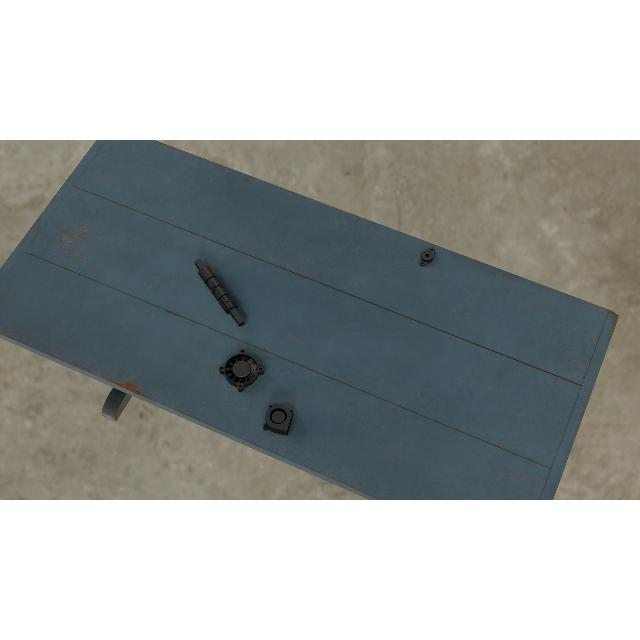Pieza1: (192, 256, 248, 330)
Pieza2: (415, 244, 439, 270)
Pieza3: (262, 402, 294, 436)
Pieza4: (218, 348, 266, 394)
